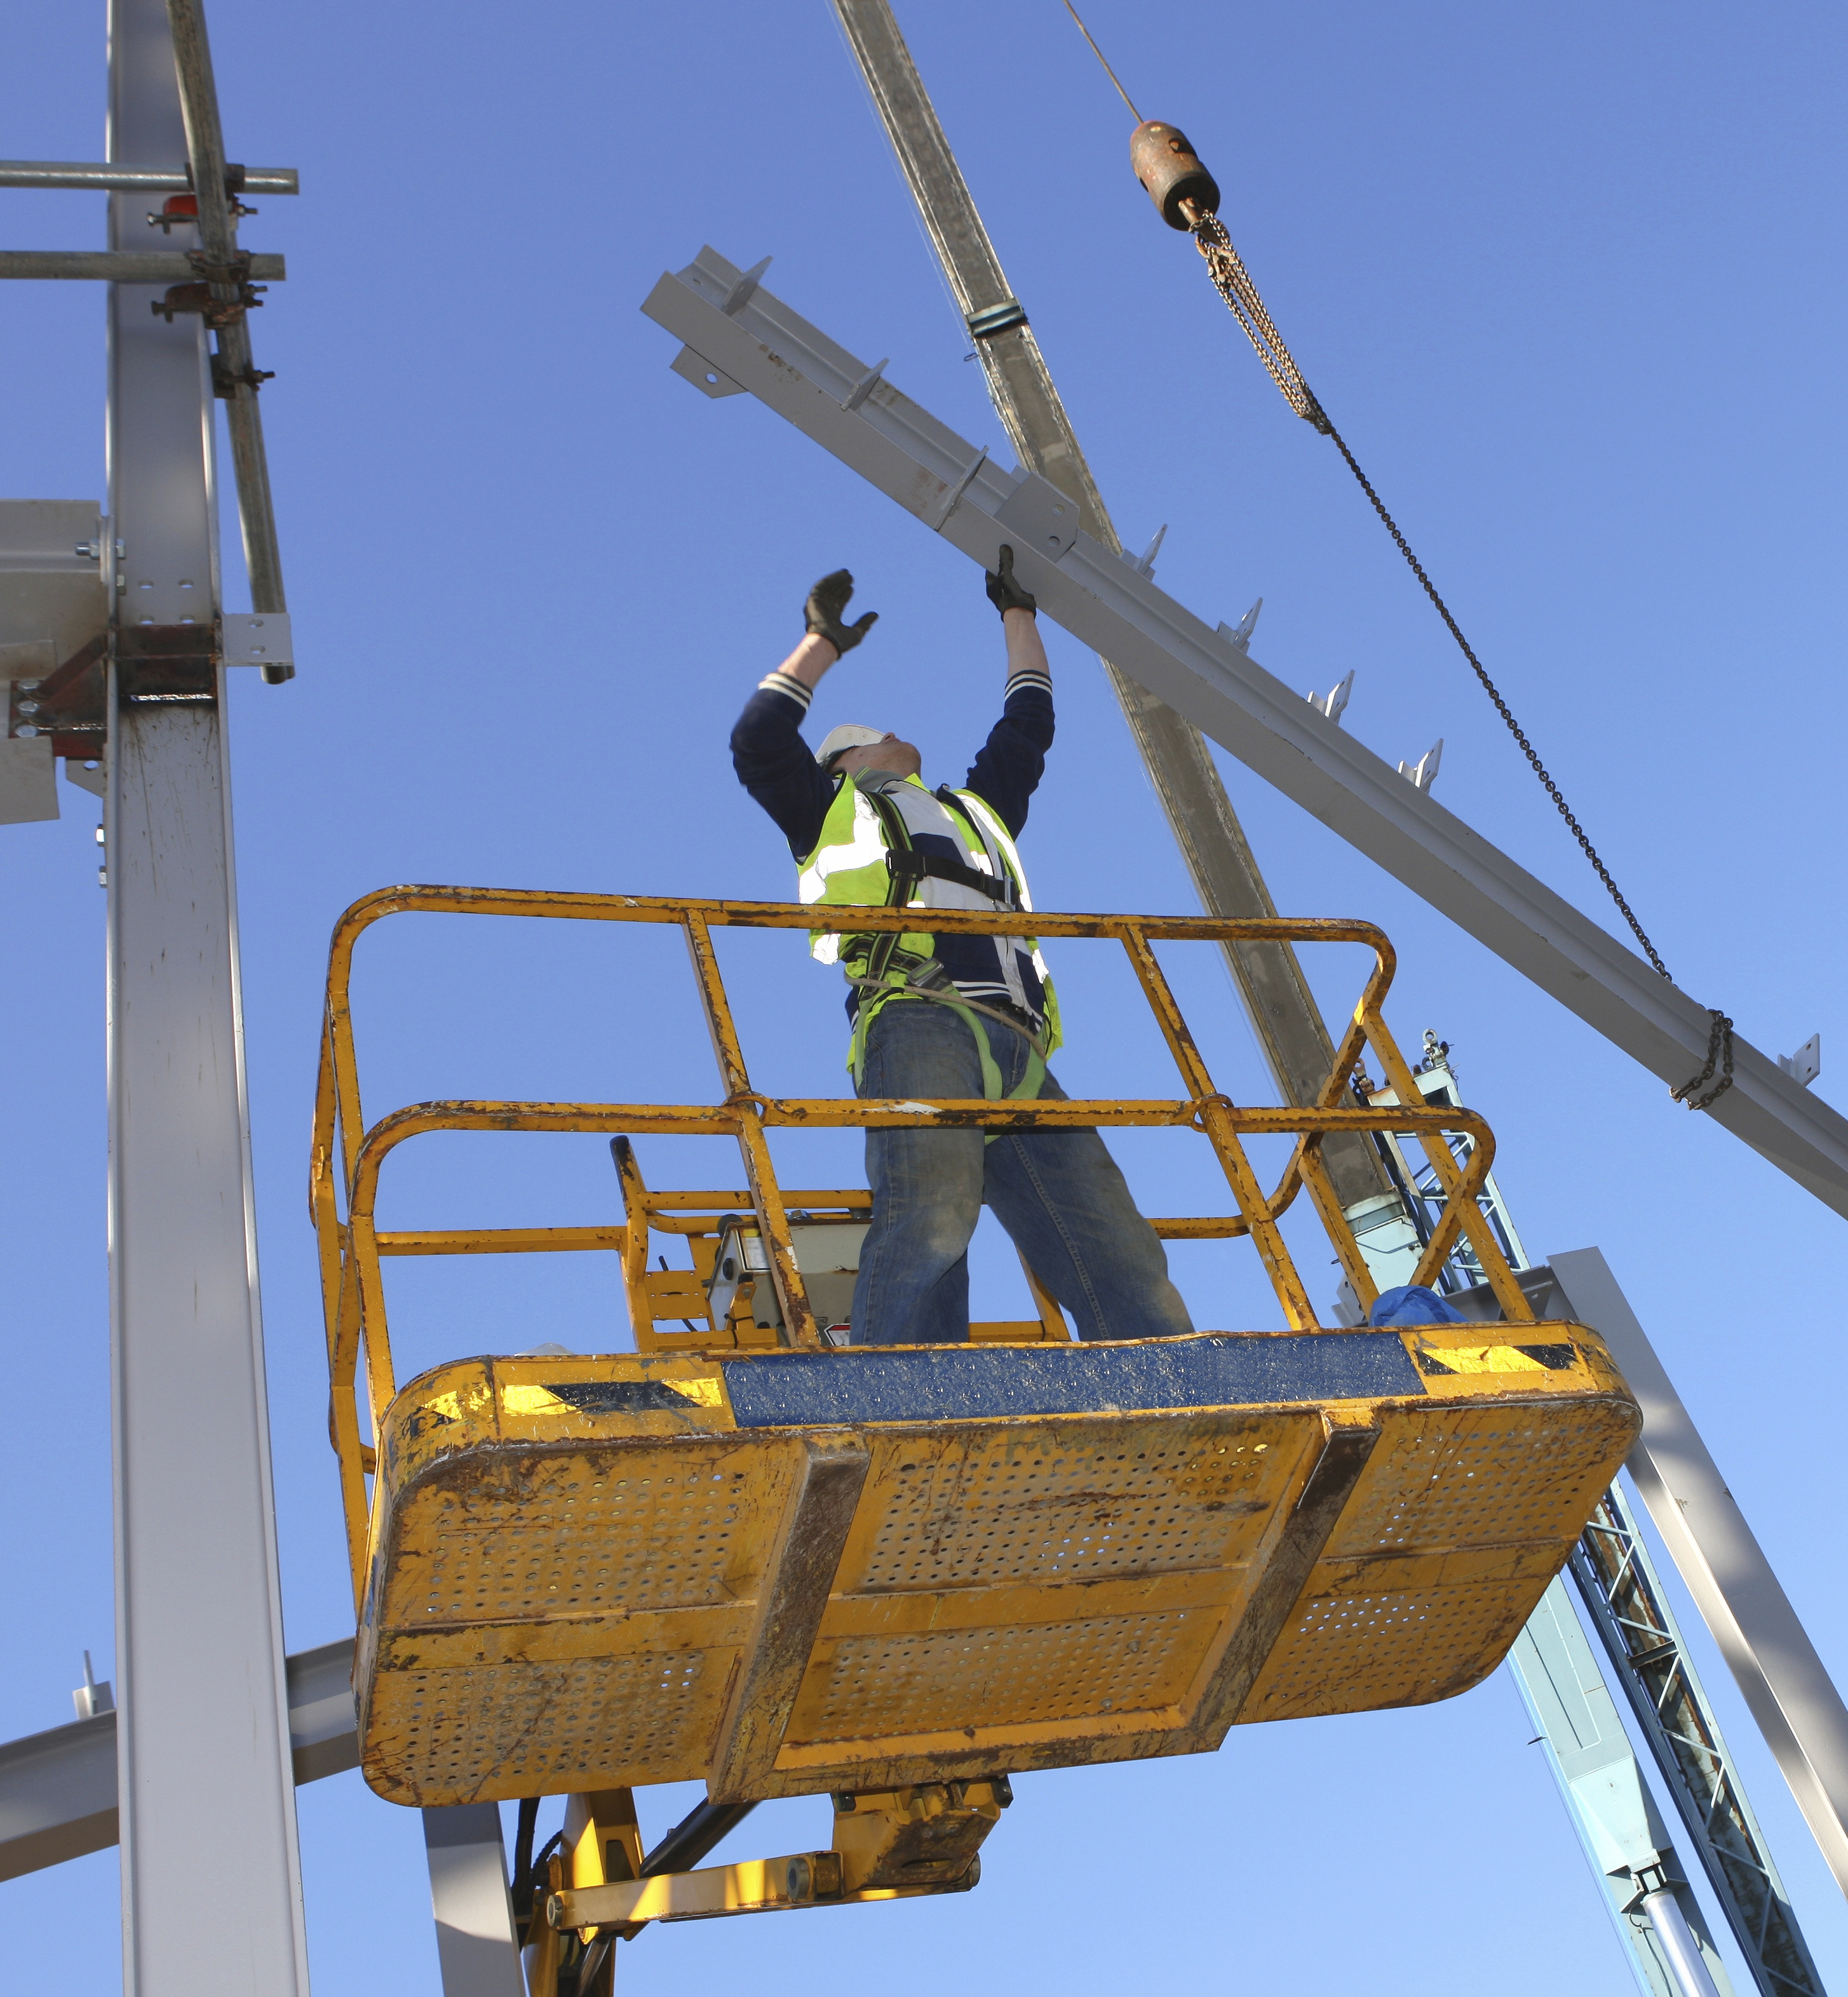white: (804, 713, 922, 807)
